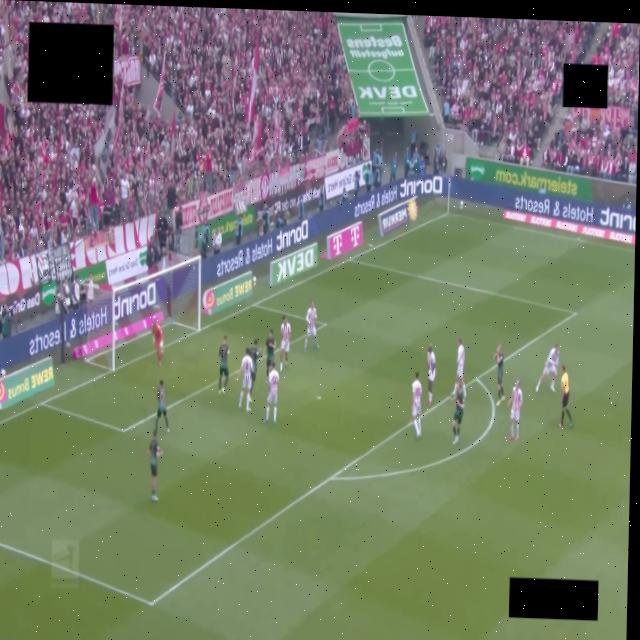player: (536, 344, 559, 391), (237, 347, 253, 411), (147, 430, 161, 501), (508, 380, 522, 440), (452, 337, 465, 397), (452, 381, 464, 444), (265, 364, 278, 422), (303, 301, 318, 351), (155, 380, 168, 432), (411, 373, 421, 439), (493, 345, 504, 405), (249, 339, 261, 393), (279, 316, 290, 370), (218, 337, 228, 393), (152, 319, 163, 365), (265, 329, 275, 378), (427, 345, 434, 406)
referee: (558, 365, 572, 428)
